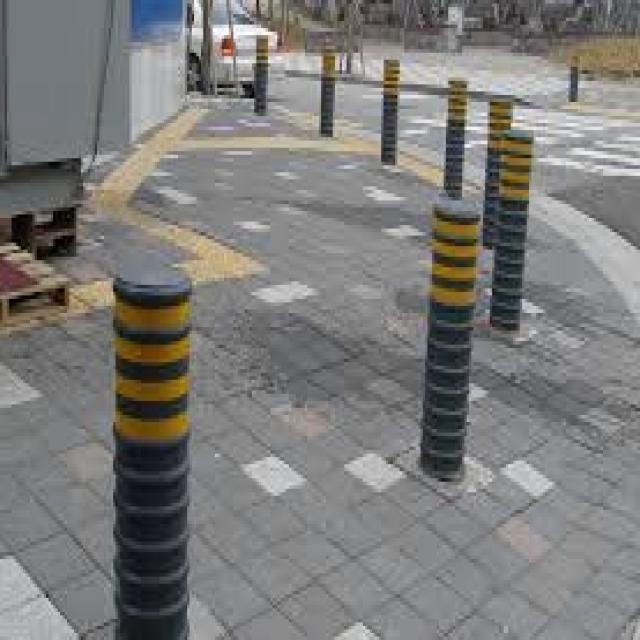bollard: (104, 246, 202, 640), (412, 179, 485, 479), (484, 122, 536, 337), (484, 95, 518, 254), (432, 75, 470, 202), (374, 48, 408, 172), (314, 39, 340, 144), (248, 31, 274, 123)
